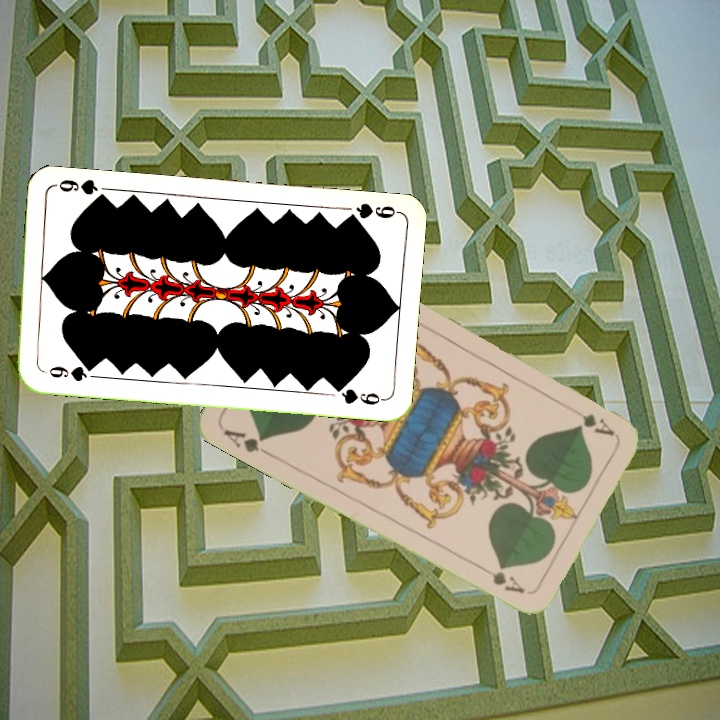G9: (341, 199, 401, 224), (38, 362, 97, 384)
GA: (220, 425, 273, 459), (577, 409, 617, 439)
